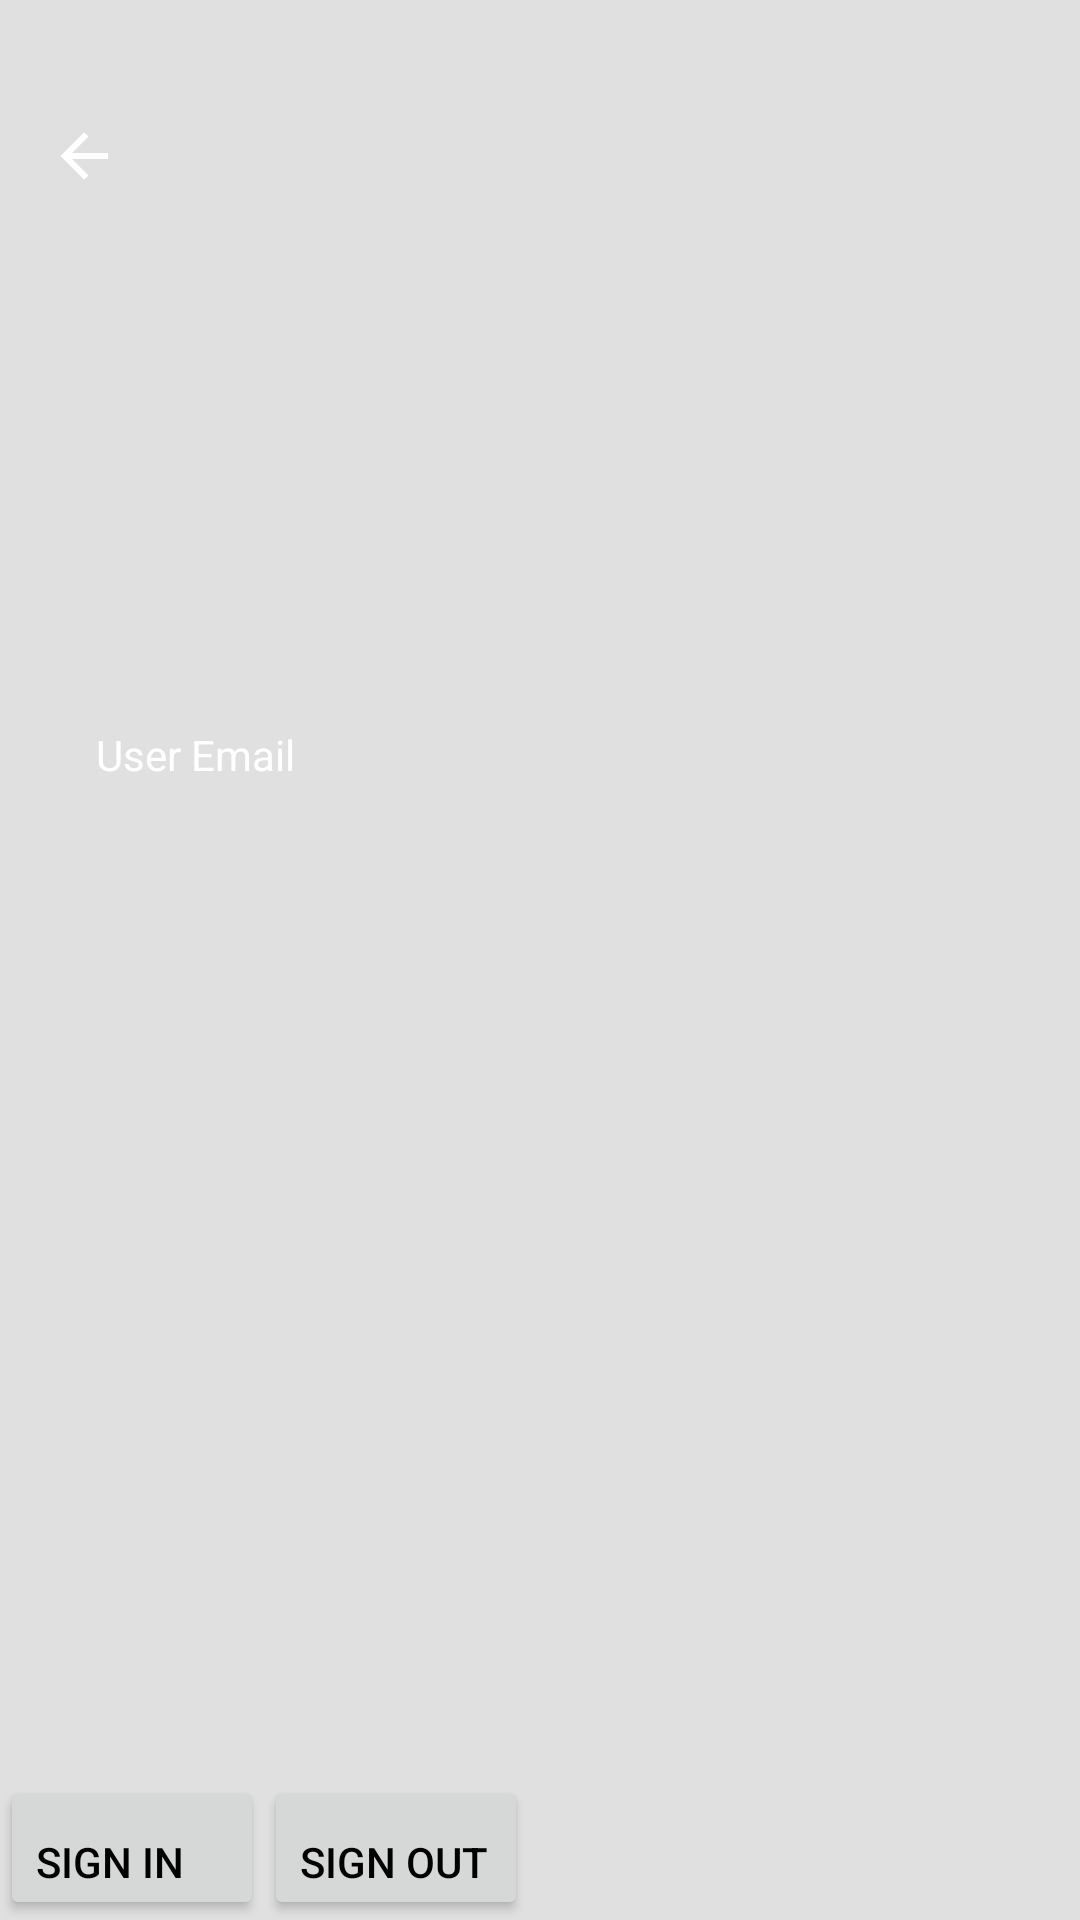

Icons on this 1080 × 1920 Android screen, each with its box as (x1, y1, x2, y2):
arrow left: (61, 133, 108, 179)
